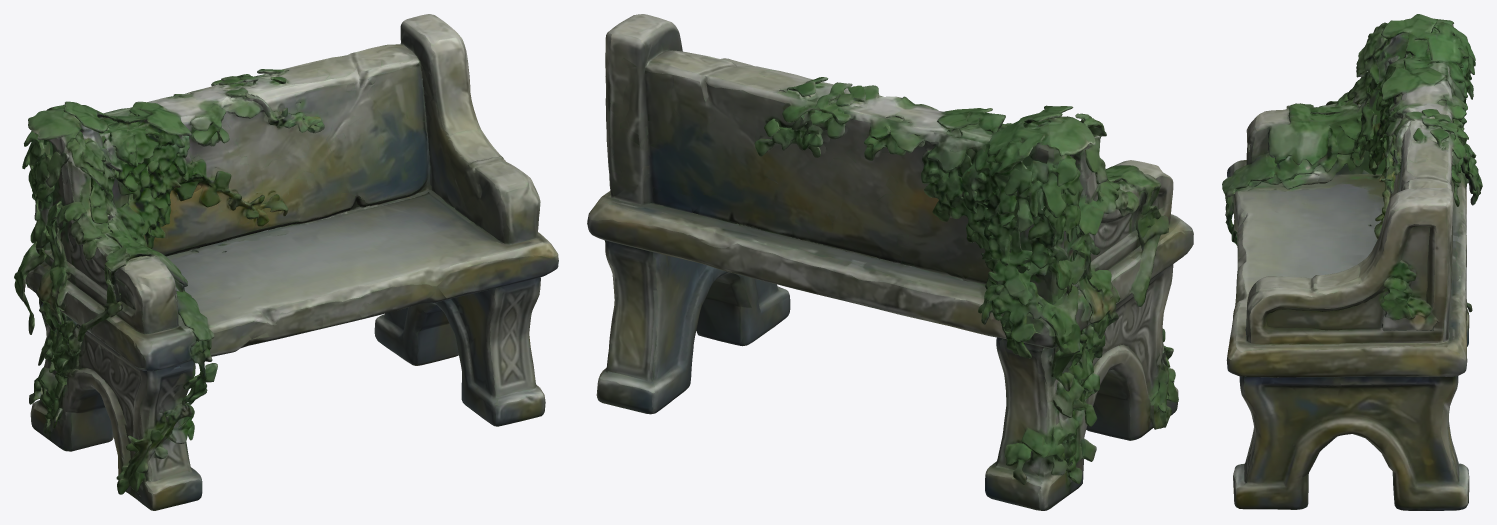
File: bench.glb
3 renders of one model, left to right at view 1: azimuth 30°, elevation 25°; view 2: azimuth 150°, elevation 25°; view 3: azimuth 270°, elevation 25°, orthographic. The views are drawn at different scales.
Parts seen in each view (by area): view 1: geometry_0; view 2: geometry_0; view 3: geometry_0.
Boxes of the visible parts, <box> form: geometry_0: <box>14,14,558,510</box>; geometry_0: <box>587,14,1193,510</box>; geometry_0: <box>1222,14,1482,510</box>.
Size of the model in its own units: 1.8 by 1.34 by 0.9948.
Materials: 1 (1 with a texture image).
